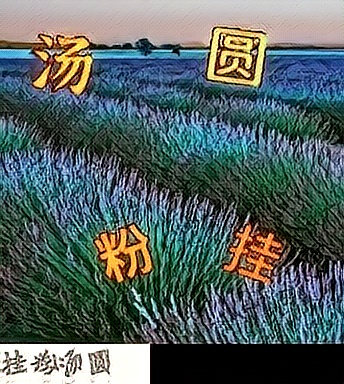B7DB: (92, 218, 155, 284)
B9D2: (221, 220, 284, 286)
CCC0: (30, 29, 93, 95)
D4B2: (205, 21, 268, 87)
